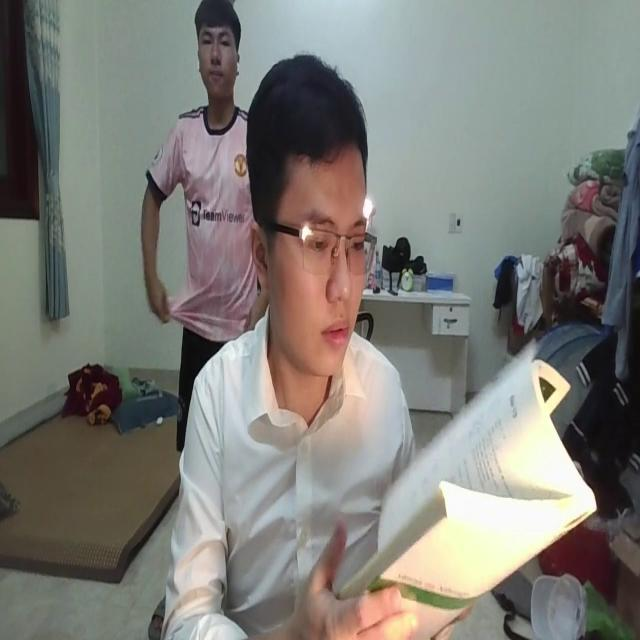book: (336, 345, 595, 633)
extra_person: (139, 1, 268, 420)
student: (164, 50, 419, 640)
